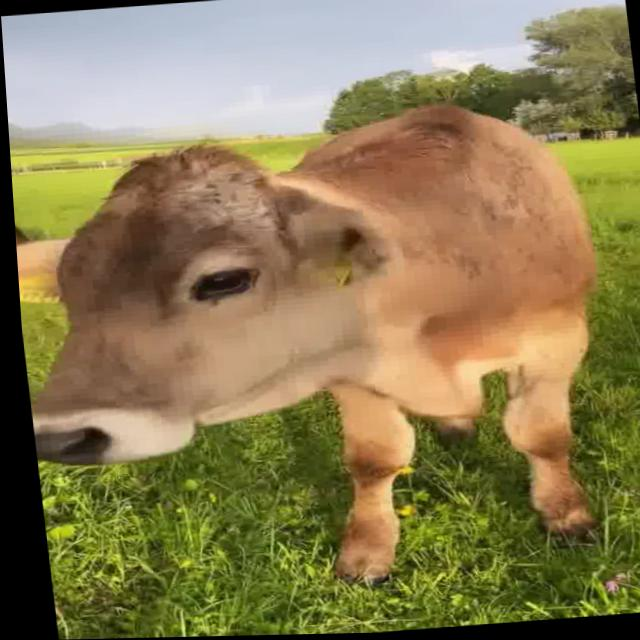cowFace: (6, 113, 421, 402)
